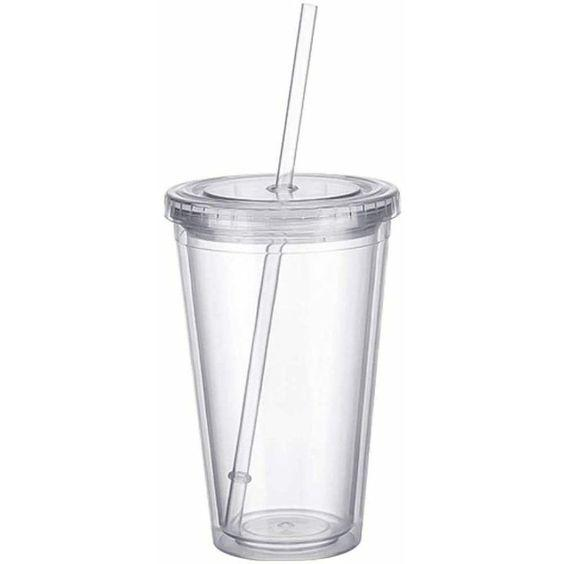PS: (164, 170, 401, 556)
